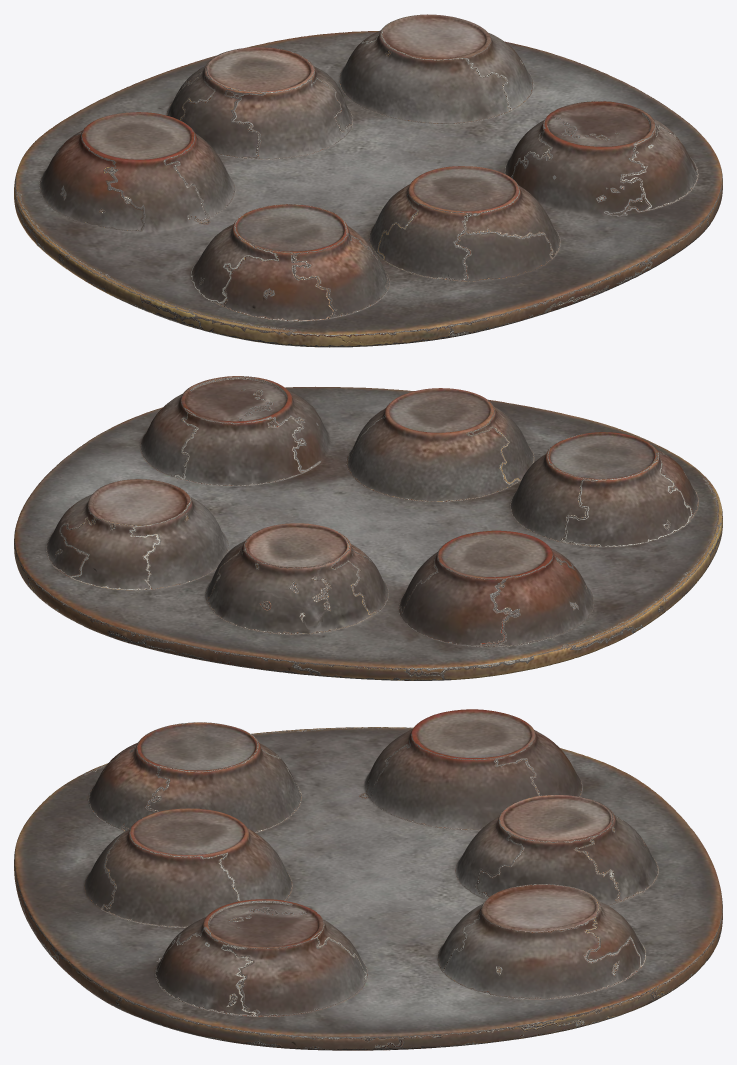
The picture shows the model from 3 angles, top to bottom: view 1: azimuth 30°, elevation 25°; view 2: azimuth 150°, elevation 25°; view 3: azimuth 270°, elevation 25°; orthographic projection. The views are drawn at different scales.
Size of the model in its own units: 1.9 by 0.2022 by 1.84.
1 material, 1 textured.
